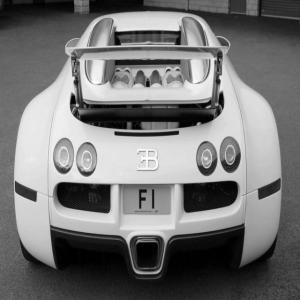Plate: (123, 186, 171, 214)
